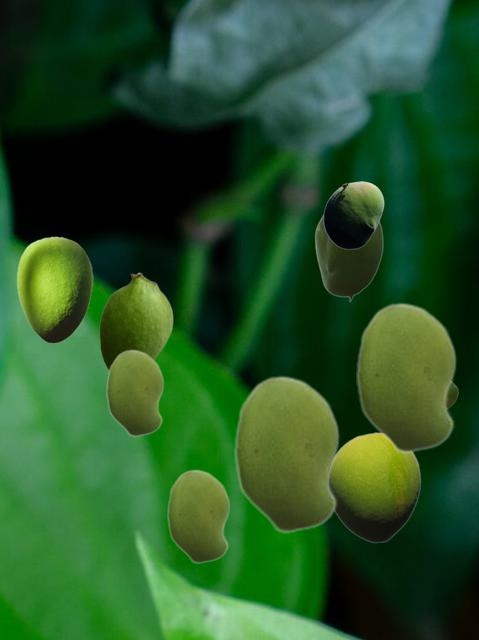green_mango: (234, 375, 339, 533), (356, 302, 456, 453), (331, 432, 420, 542), (16, 236, 92, 342), (99, 272, 172, 369), (314, 215, 382, 301), (167, 469, 229, 563), (106, 349, 163, 436), (323, 181, 383, 248), (449, 383, 457, 407)
